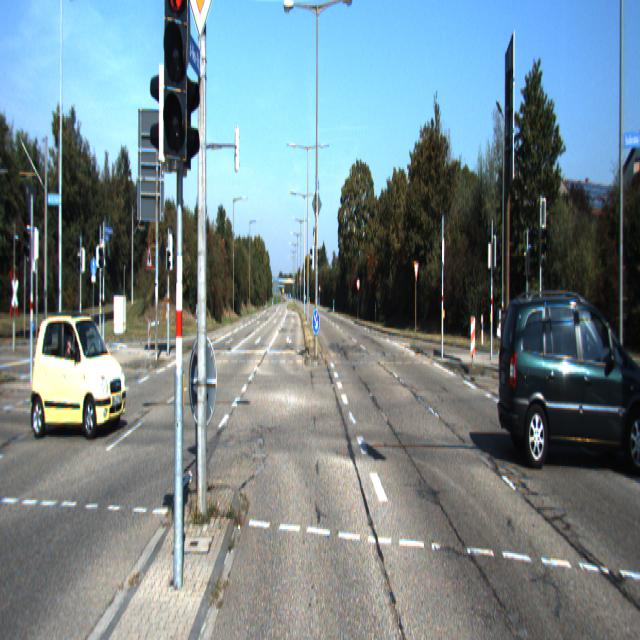Car: (492, 278, 640, 476), (27, 304, 129, 435)
